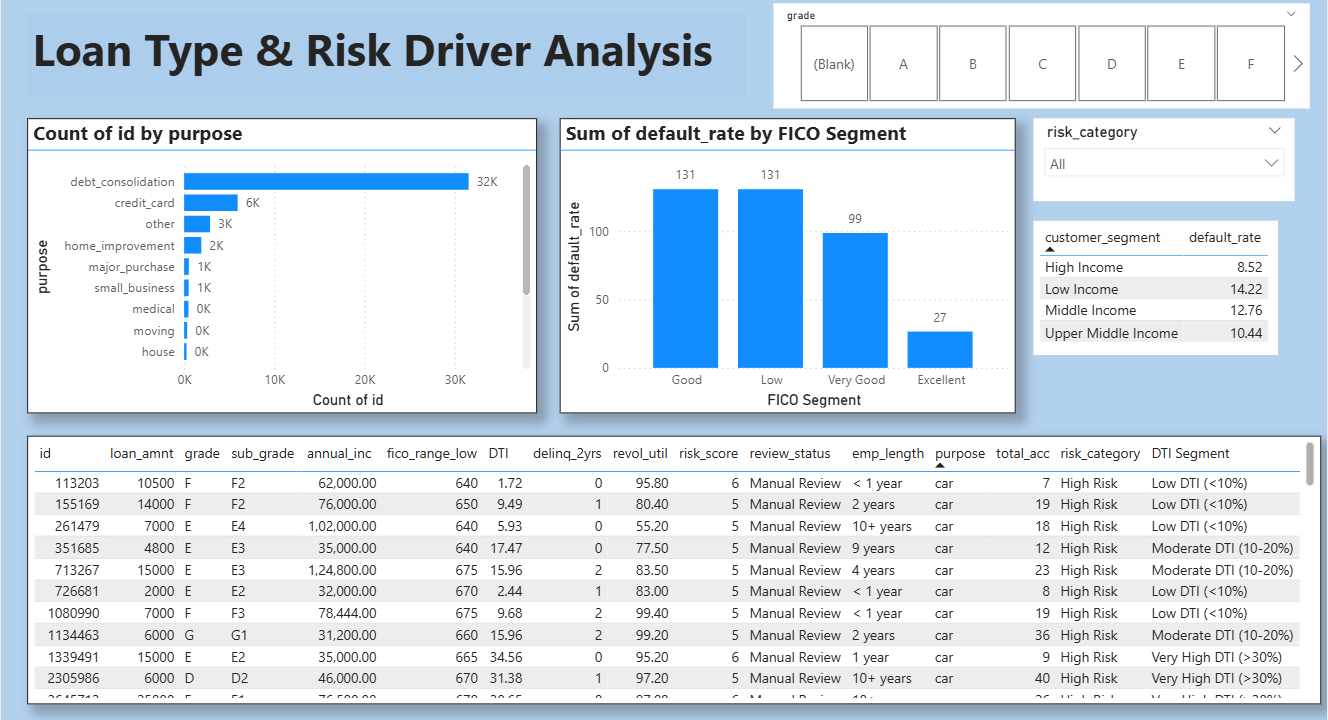

The dashboard page shown, as its layout file describes it:
{"tool":"powerbi","page":{"name":"Page 3","canvas":[1280,720],"ordinal":2},"visuals":[{"type":"tableEx","fields":{"Values":["manuall_review.id","Sum(manuall_review.loan_amnt)","grade_analysis.grade","manuall_review.sub_grade","Sum(manuall_review.annual_inc)","Sum(manuall_review.fico_range_low)","Sum(manuall_review.dti)","Sum(manuall_review.delinq_2yrs)","Sum(manuall_review.revol_util)","Sum(manuall_review.risk_score)","manuall_review.review_status","manuall_review.emp_length"]},"box":[25.7,428,1248.5,259.2],"z":0},{"type":"barChart","fields":{"Category":["manuall_review.purpose"],"Y":["Count(manuall_review.id)"]},"box":[25.3,121.9,492.2,284.7],"z":1000},{"type":"clusteredColumnChart","fields":{"Category":["manuall_review.FICO Segment"],"Y":["Sum(grade_analysis.default_rate)"]},"box":[539.3,121.9,440.4,284.7],"z":2000},{"type":"slicer","fields":{"Values":["risk_analysis.risk_category"]},"box":[996.5,121.9,252.1,79.6],"z":3000},{"type":"slicer","fields":{"Values":["grade_analysis.grade"]},"box":[745.9,11,517.3,101.5],"z":4000},{"type":"tableEx","fields":{"Values":["seg_loa_defa_rate.customer_segment","seg_loa_defa_rate.default_rate"]},"box":[996.6,221.3,236,129.6],"z":5000},{"type":"textbox","box":[25.7,20.8,693.3,79.5],"z":6000}]}

Visuals, with their boxes on the page's 1280x720 design canvas (x1, y1, x2, y2). These are canvas units, not pixel positions in the 1328x720 screenshot, which may show the page scaled, cropped or inside an application window:
tableEx - manuall_review.id x Sum(manuall_review.loan_amnt): {"x1": 26, "y1": 428, "x2": 1274, "y2": 687}
barChart - manuall_review.purpose x Count(manuall_review.id): {"x1": 25, "y1": 122, "x2": 518, "y2": 407}
clusteredColumnChart - manuall_review.FICO Segment x Sum(grade_analysis.default_rate): {"x1": 539, "y1": 122, "x2": 980, "y2": 407}
slicer - risk_analysis.risk_category: {"x1": 996, "y1": 122, "x2": 1249, "y2": 202}
slicer - grade_analysis.grade: {"x1": 746, "y1": 11, "x2": 1263, "y2": 112}
tableEx - seg_loa_defa_rate.customer_segment x seg_loa_defa_rate.default_rate: {"x1": 997, "y1": 221, "x2": 1233, "y2": 351}
textbox: {"x1": 26, "y1": 21, "x2": 719, "y2": 100}
